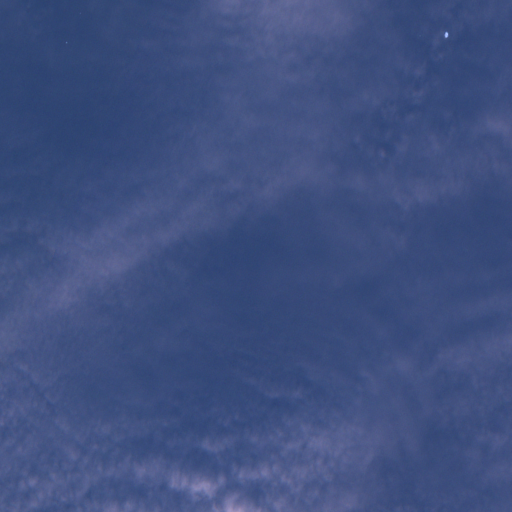Iceberg: (444, 32, 448, 37), (65, 41, 67, 43)
